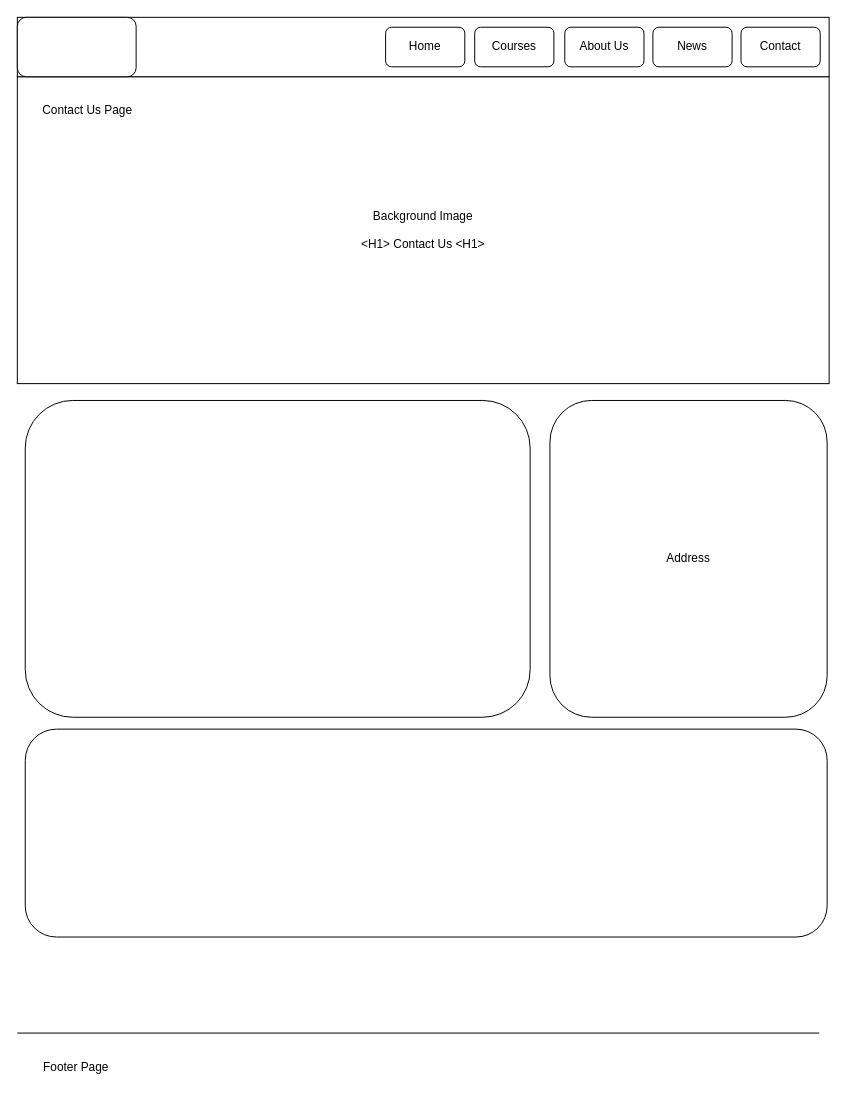
Image size: 846x1100. Some labels were removed from this diagram. The box of each missing label's shape, as (x1, y1, x2, y2) in pixels:
FORM: (24, 399, 530, 717)
LOGO: (16, 16, 136, 77)
MAP: (24, 728, 827, 937)
